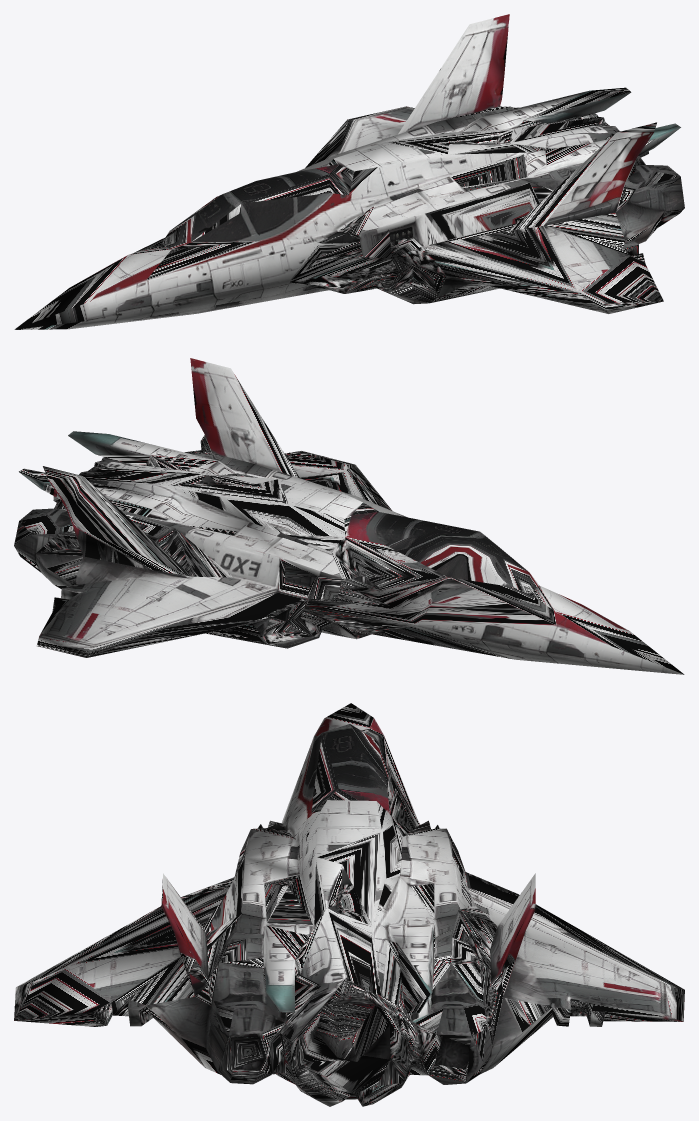
Rendered from spaceship_fighter_simplify10.glb.
3 renders of one model, top to bottom at view 1: azimuth 30°, elevation 25°; view 2: azimuth 150°, elevation 25°; view 3: azimuth 270°, elevation 25°, orthographic. The views are drawn at different scales.
Visible parts, largest first — view 1: Mesh1.0_Material.001_0; view 2: Mesh1.0_Material.001_0; view 3: Mesh1.0_Material.001_0.
Boxes of the visible parts, box(x1,y1,x2,y2) form: Mesh1.0_Material.001_0: box(14, 14, 684, 329); Mesh1.0_Material.001_0: box(14, 358, 684, 674); Mesh1.0_Material.001_0: box(14, 703, 684, 1106).
Bounding box in the file's own units: 1.91 × 0.4472 × 1.37.
Materials: 1 (1 with a texture image).
